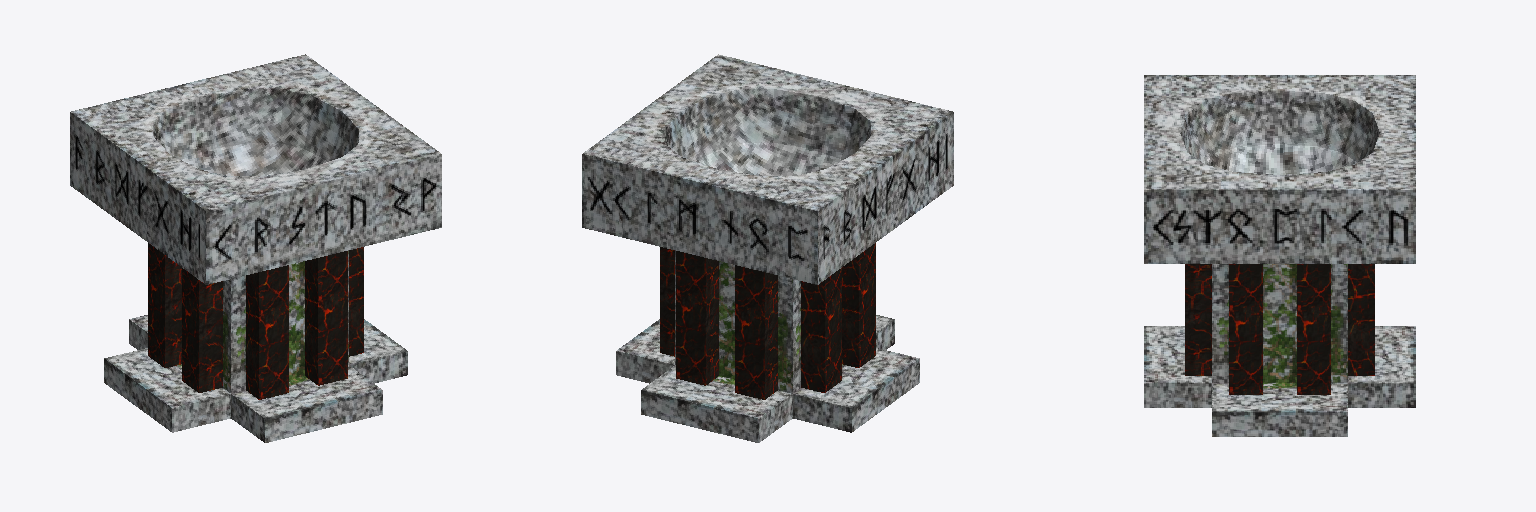
The picture shows the model from 3 angles: view 1: azimuth 30°, elevation 25°; view 2: azimuth 150°, elevation 25°; view 3: azimuth 270°, elevation 25°; orthographic projection.
Parts seen in each view (by area): view 1: Altar_1_Cube.005; view 2: Altar_1_Cube.005; view 3: Altar_1_Cube.005.
Boxes of the visible parts, box(x1,y1,x2,y2) form: Altar_1_Cube.005: box(70, 54, 441, 442); Altar_1_Cube.005: box(582, 54, 953, 442); Altar_1_Cube.005: box(1144, 75, 1415, 436).
Bounding box in the file's own units: 1 × 1 × 1.
1 materials, 1 textured.